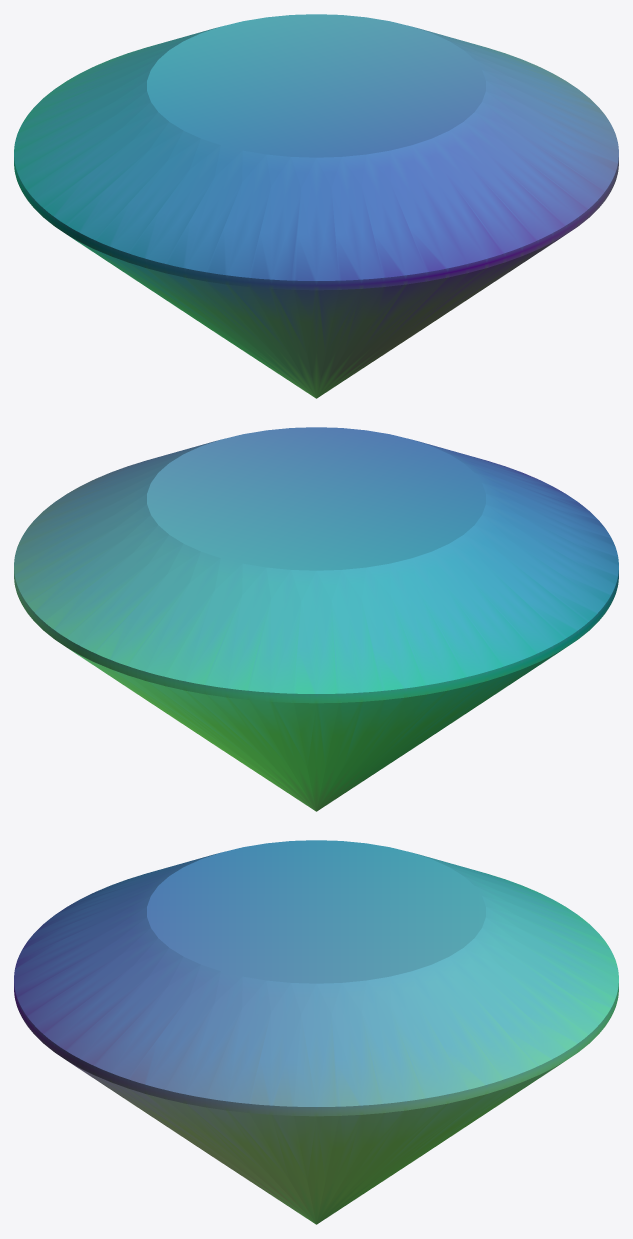
The model's file is Gem.fbx.
3 views of the same model, one above another, from view 1: azimuth 30°, elevation 25°; view 2: azimuth 150°, elevation 25°; view 3: azimuth 270°, elevation 25° (orthographic).
Parts seen in each view (by area): view 1: Gem; view 2: Gem; view 3: Gem.
Part boxes in pixels (left/top/right/bottom): Gem: left=14, top=14, right=618, bottom=398; Gem: left=14, top=427, right=618, bottom=811; Gem: left=14, top=840, right=618, bottom=1224.
Bounding box in the file's own units: 200 × 114 × 200.
